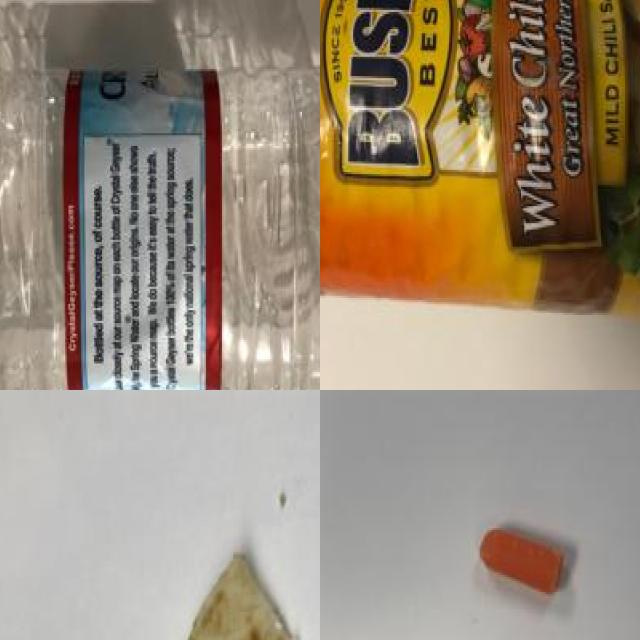compost: (320, 503, 600, 640), (147, 533, 320, 640)
plastic: (320, 0, 640, 348), (0, 63, 320, 390)
